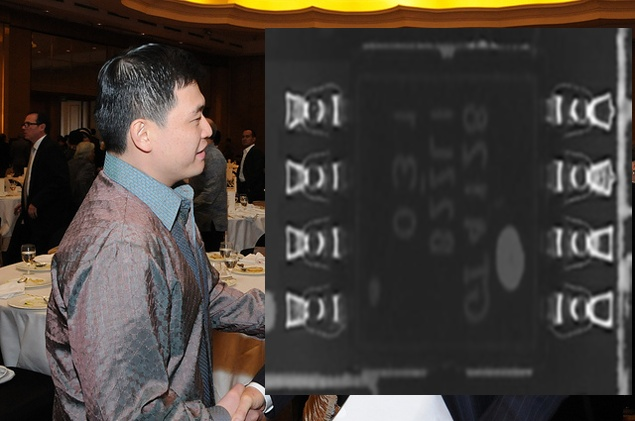PAD: (527, 60, 621, 358), (272, 61, 365, 358)
wineglass: (219, 240, 233, 275), (20, 244, 35, 276), (222, 252, 238, 278), (240, 196, 247, 213)
